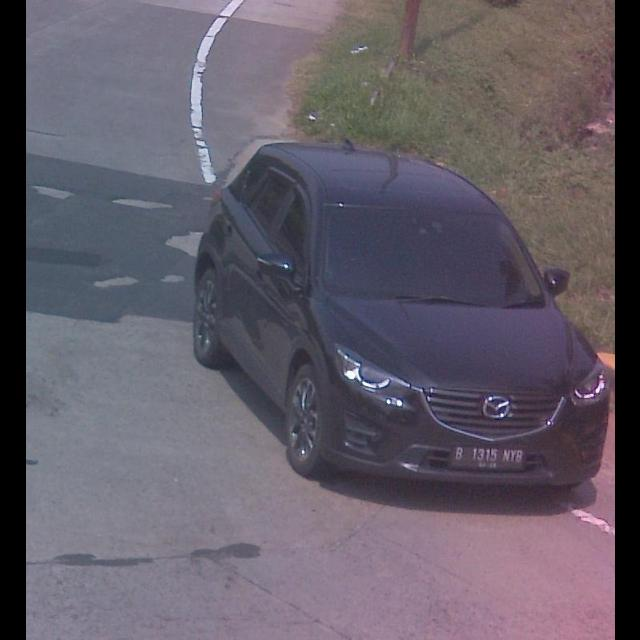plate: (448, 438, 534, 474)
